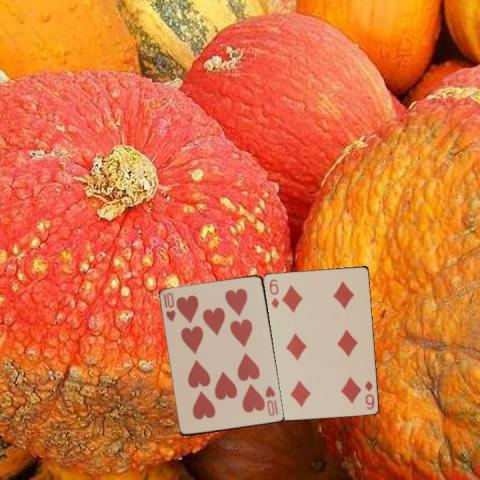10h: (263, 383, 280, 417), (161, 290, 177, 324)
6d: (266, 276, 280, 309), (362, 378, 376, 411)
